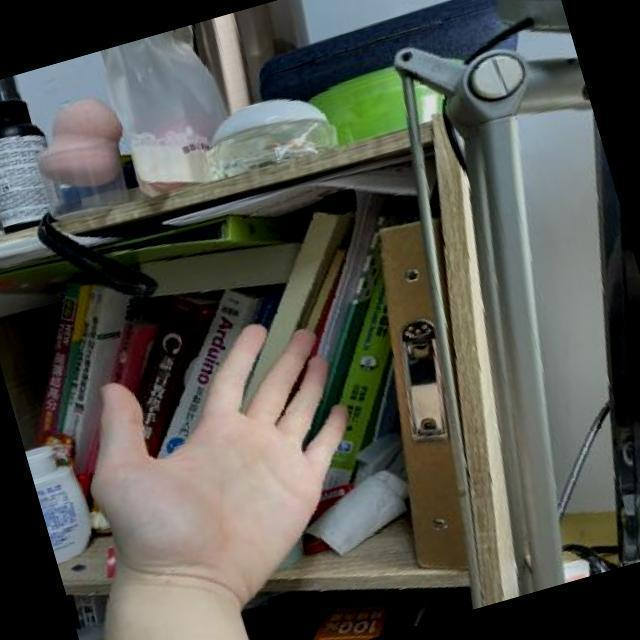hand: (31, 276, 408, 640)
